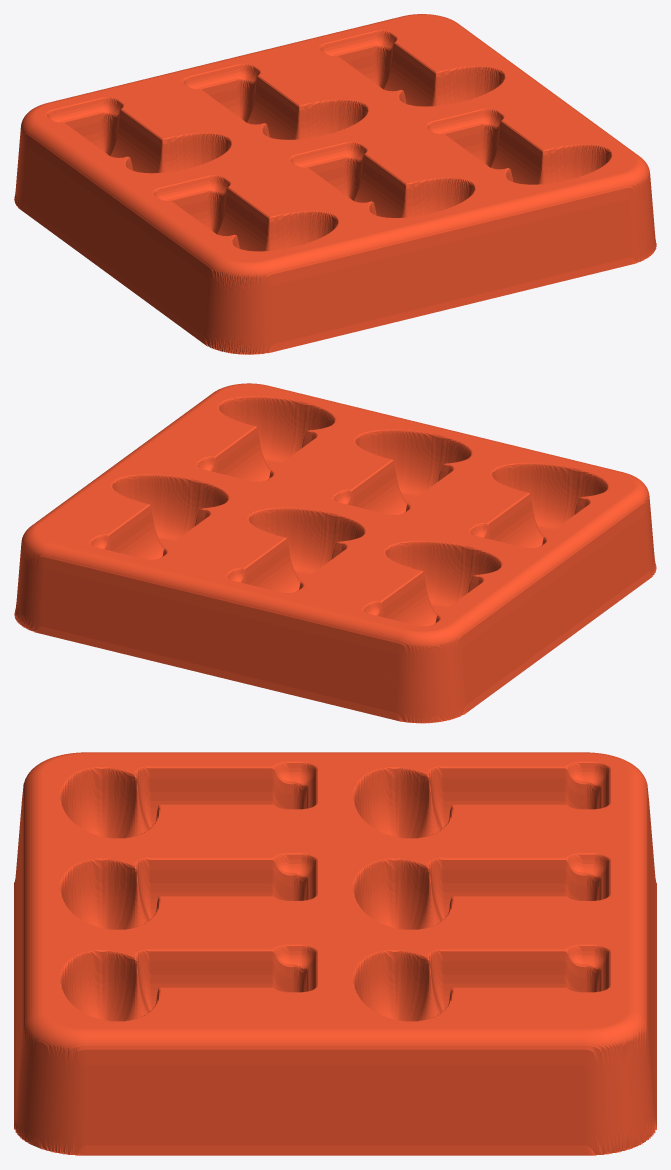
File: mold.glb
The picture shows the model from 3 angles, top to bottom: view 1: azimuth 30°, elevation 25°; view 2: azimuth 150°, elevation 25°; view 3: azimuth 270°, elevation 25°; orthographic projection. The views are drawn at different scales.
Visible parts, largest first — view 1: geometry_0; view 2: geometry_0; view 3: geometry_0.
Boxes of the visible parts, x1,y1,x2,y2 form: geometry_0: (14,14,656,354); geometry_0: (14,383,656,723); geometry_0: (14,752,656,1155).
Size of the model in its own units: 0.0888 by 0.0159 by 0.0808.
